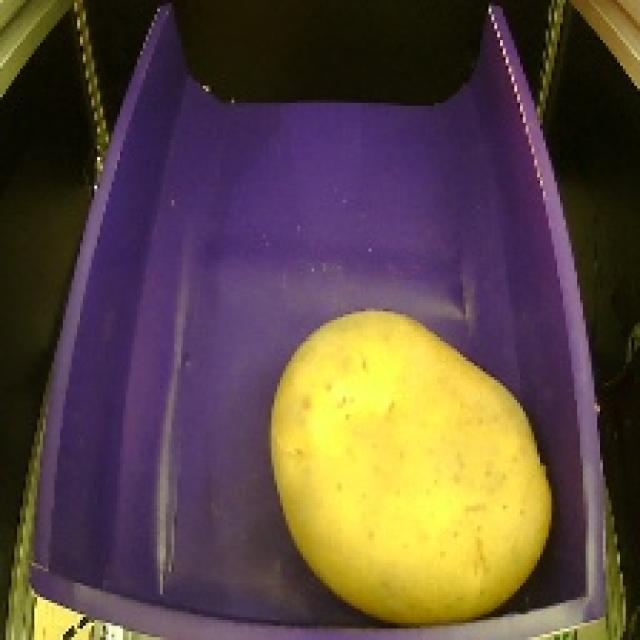full_potato: (258, 297, 562, 632)
